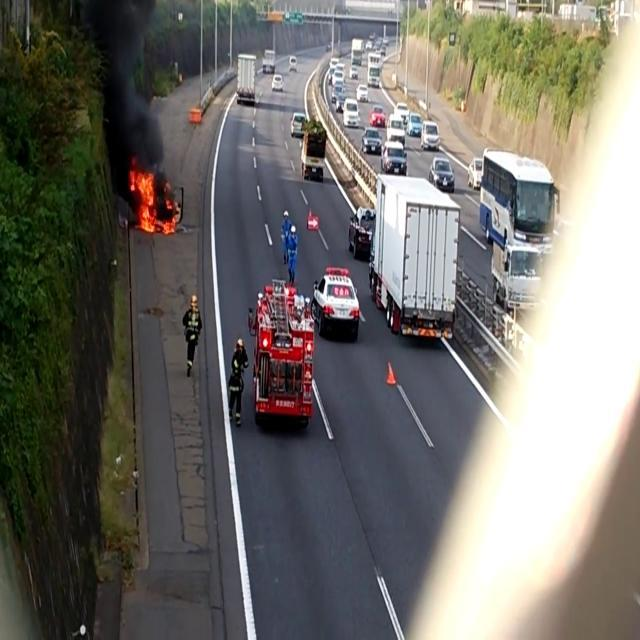Fire: (128, 160, 180, 237)
Smoke: (65, 0, 171, 168)
